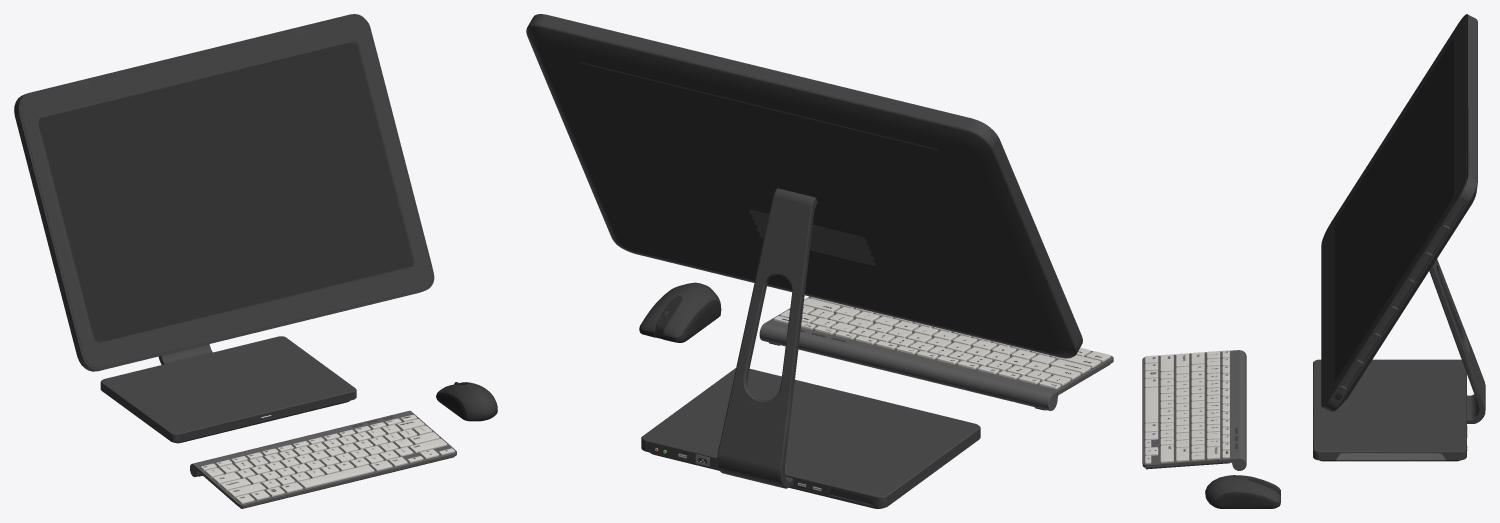
Rendered from computadora.glb.
The picture shows the model from 3 angles, left to right: view 1: azimuth 30°, elevation 25°; view 2: azimuth 150°, elevation 25°; view 3: azimuth 270°, elevation 25°; orthographic projection. The views are drawn at different scales.
Parts seen in each view (by area): view 1: all_in_one_computer.1_1; view 2: all_in_one_computer.1_1; view 3: all_in_one_computer.1_1.
Part boxes in pixels (x1,y1,x2,y2): all_in_one_computer.1_1: [14, 14, 497, 508]; all_in_one_computer.1_1: [526, 14, 1113, 508]; all_in_one_computer.1_1: [1142, 14, 1485, 508].
Size of the model in its own units: 0.7465 by 0.6221 by 0.6016.
1 material, 1 textured.
